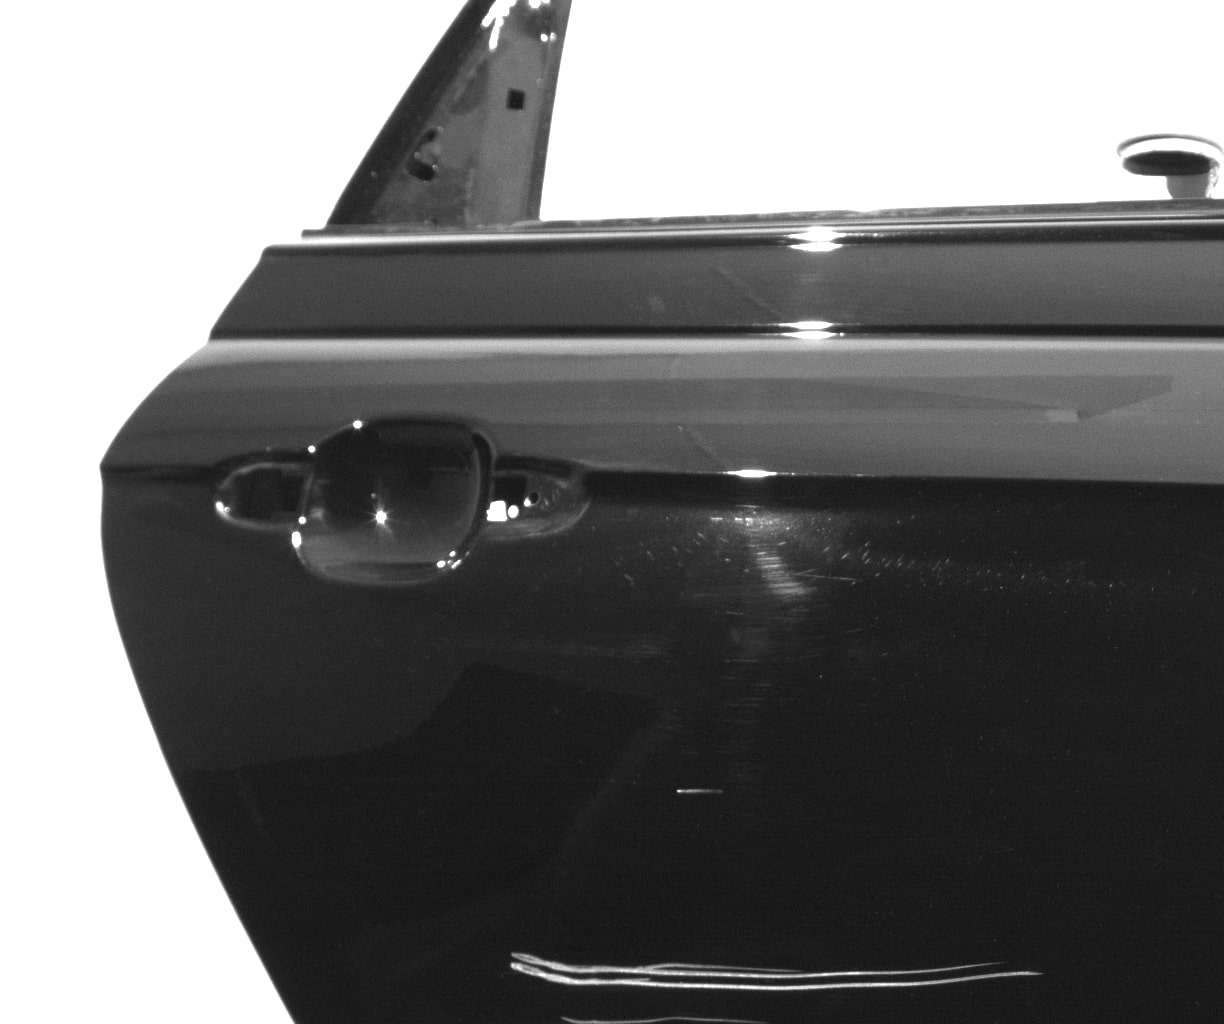scratch: (510, 950, 1045, 990), (559, 1014, 762, 1024), (795, 570, 864, 584), (675, 788, 725, 795)
